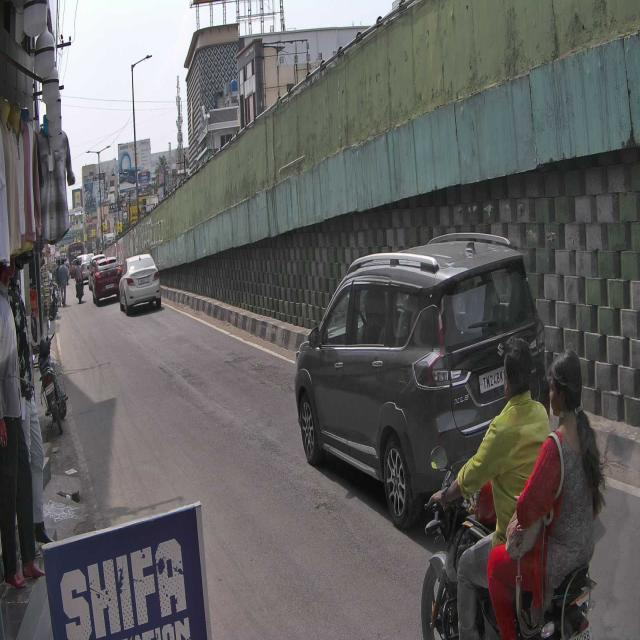double_rider: (419, 334, 596, 640)
